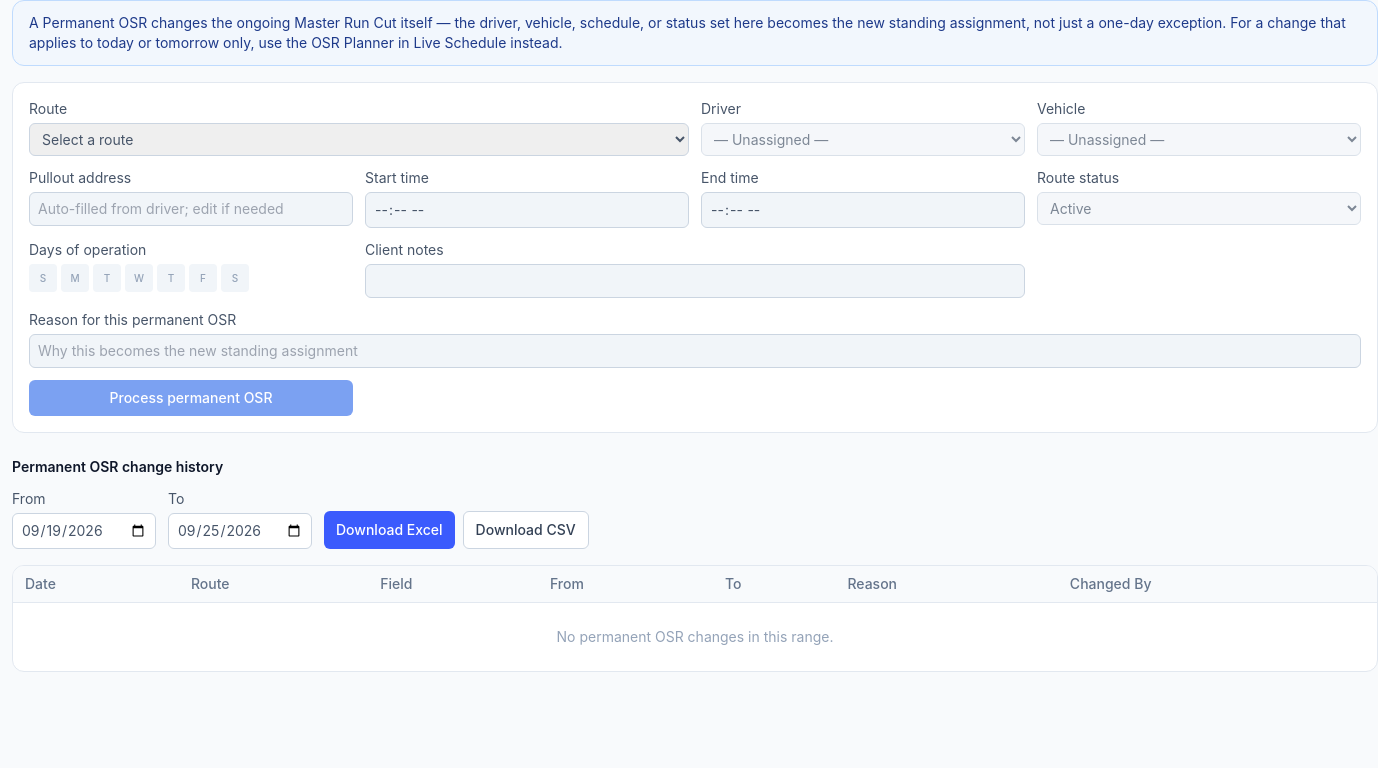
processing a permanent OSR patches the RunCut with the new assignment and reason
Select "1029-B" in the dropdown showing "Select a route" at (359, 140), box [29,123,689,156]
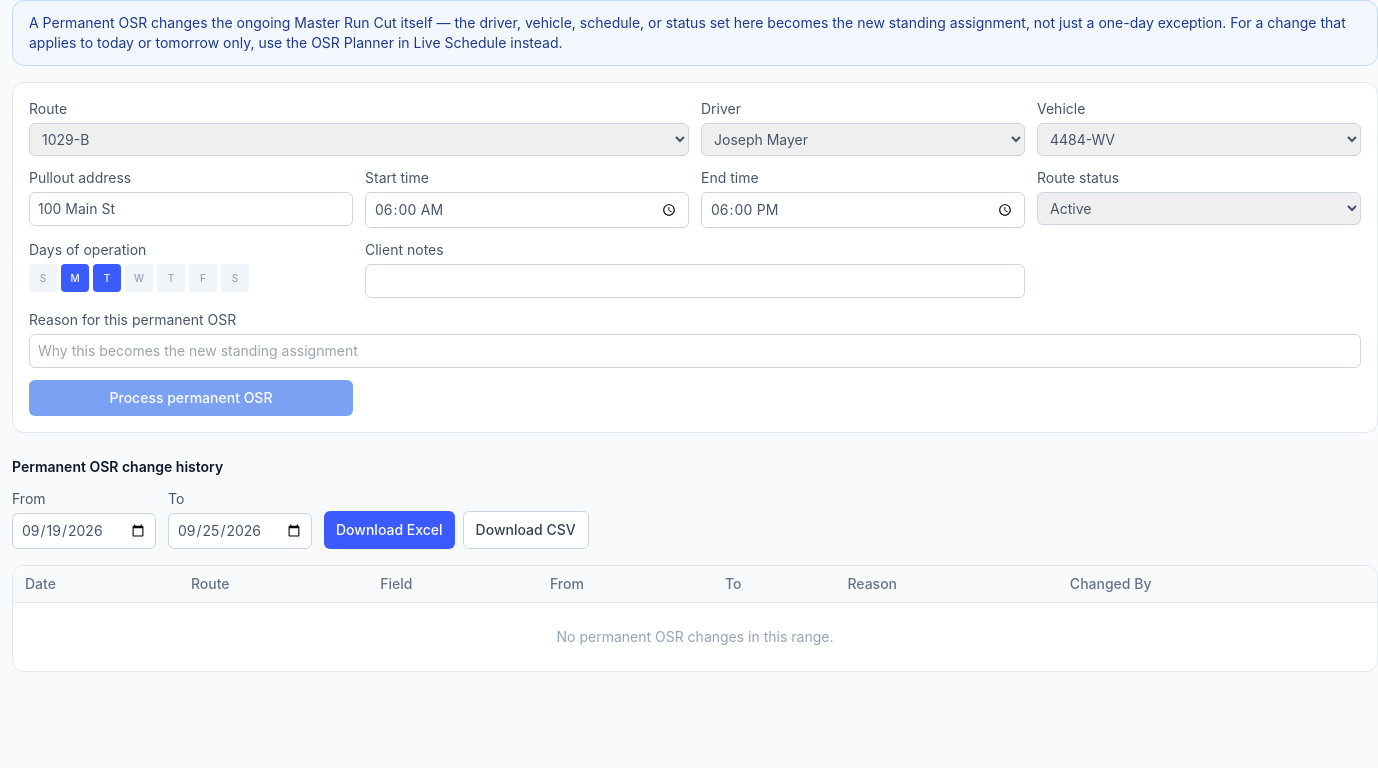
Check: the field showing "100 Main St" is shown, box [29,192,353,226]
Select "Andre Smith Jr." in the dropdown named "Permanent OSR driver" at (863, 140), box [701,123,1025,156]
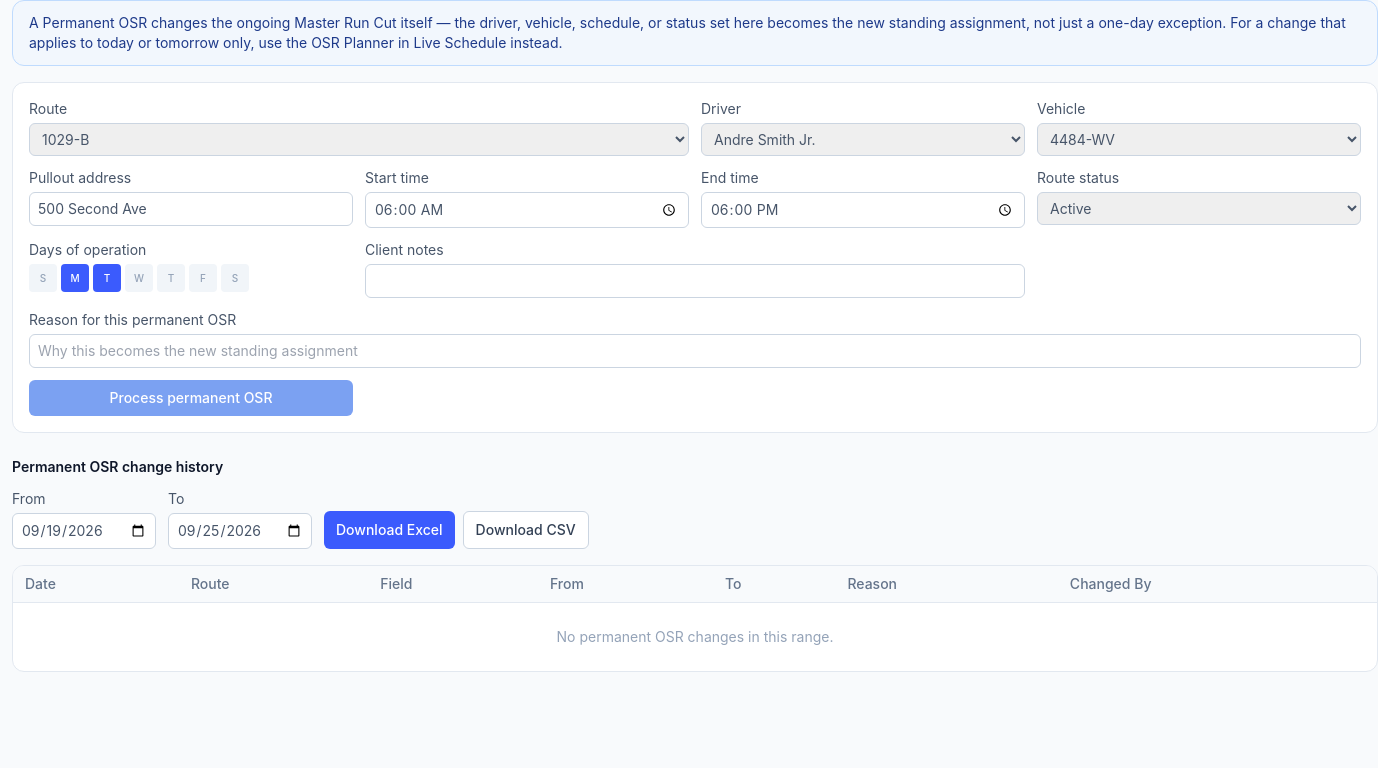
Check: the field named "Permanent OSR pullout address" holds "500 Second Ave", box [29,192,353,226]
Type "Client requested a permanent driver change" into the field labelled "Permanent OSR reason" at (695, 351), box [29,334,1361,368]
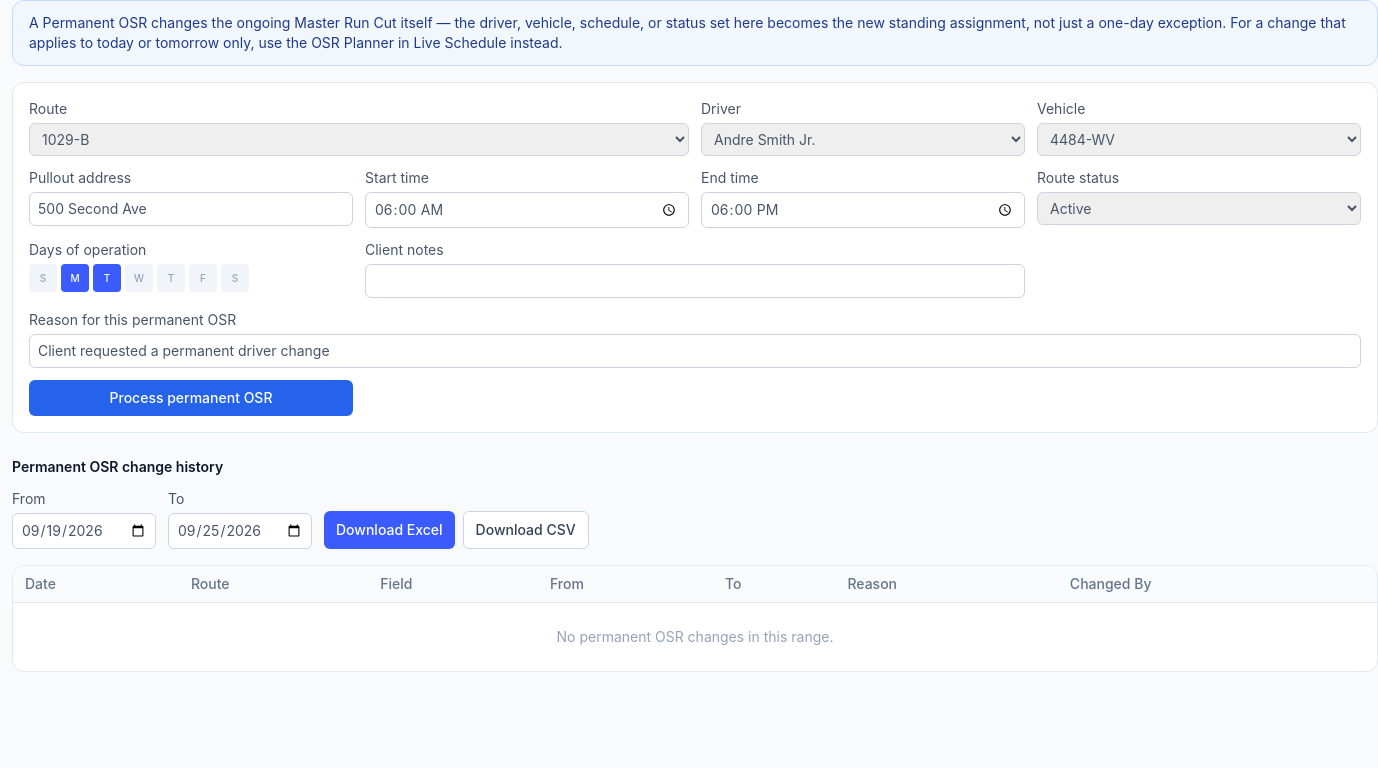
Click the button "Process permanent OSR" at (191, 398), box [29,380,353,416]
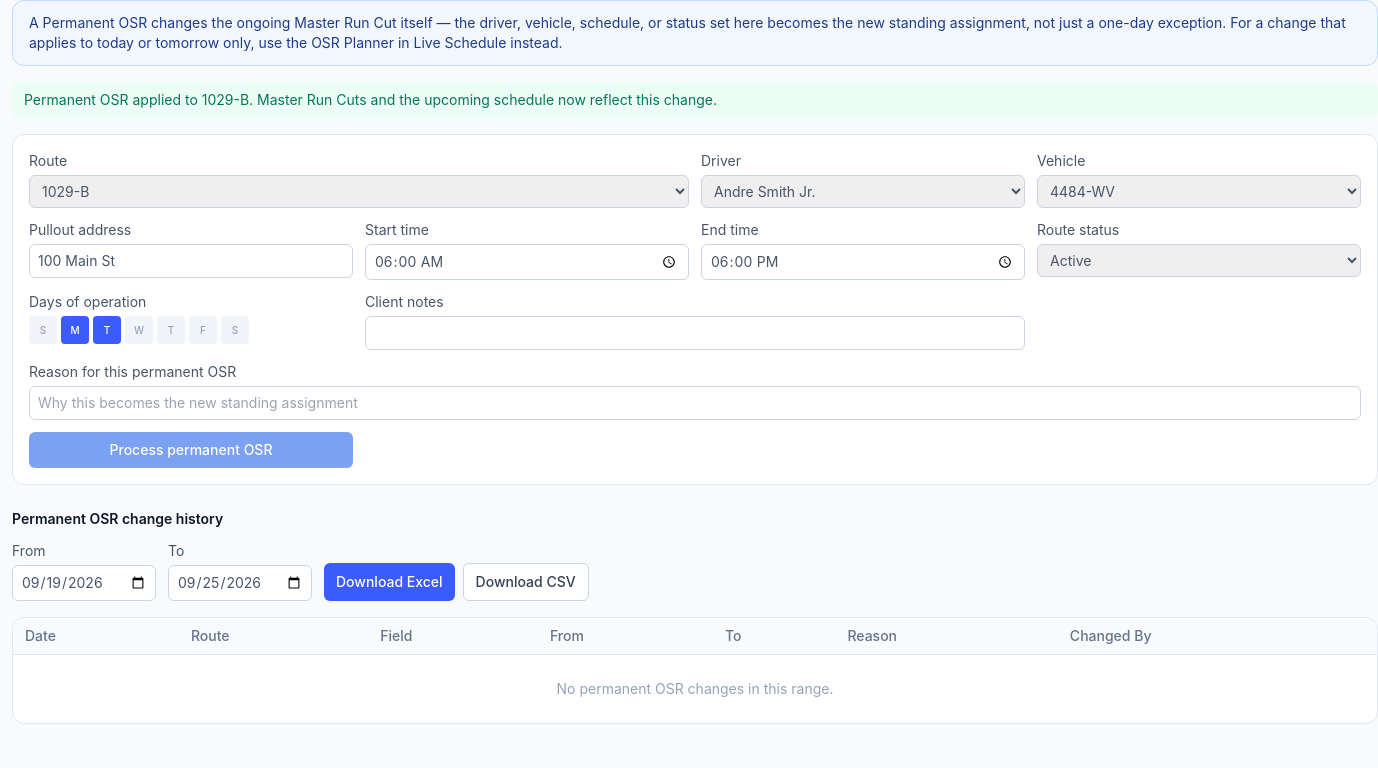
Check: the text "Permanent OSR applied to 1029-B" is shown, box [24,91,717,108]
